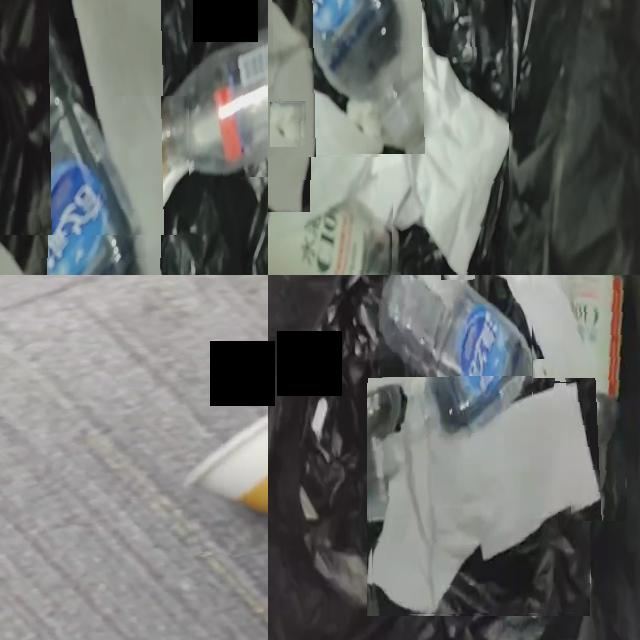bottle: (0, 0, 144, 275), (381, 275, 532, 434), (294, 0, 421, 155), (143, 27, 268, 177), (566, 275, 626, 521), (268, 164, 391, 275)
paper: (275, 0, 509, 275), (371, 379, 590, 616), (372, 383, 590, 615), (97, 96, 189, 242), (499, 275, 587, 395), (270, 103, 302, 147), (533, 360, 555, 398)
